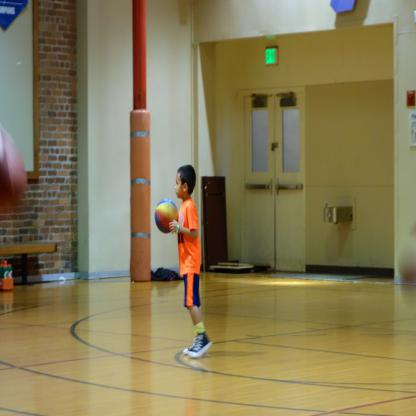Ball: (154, 197, 180, 234)
